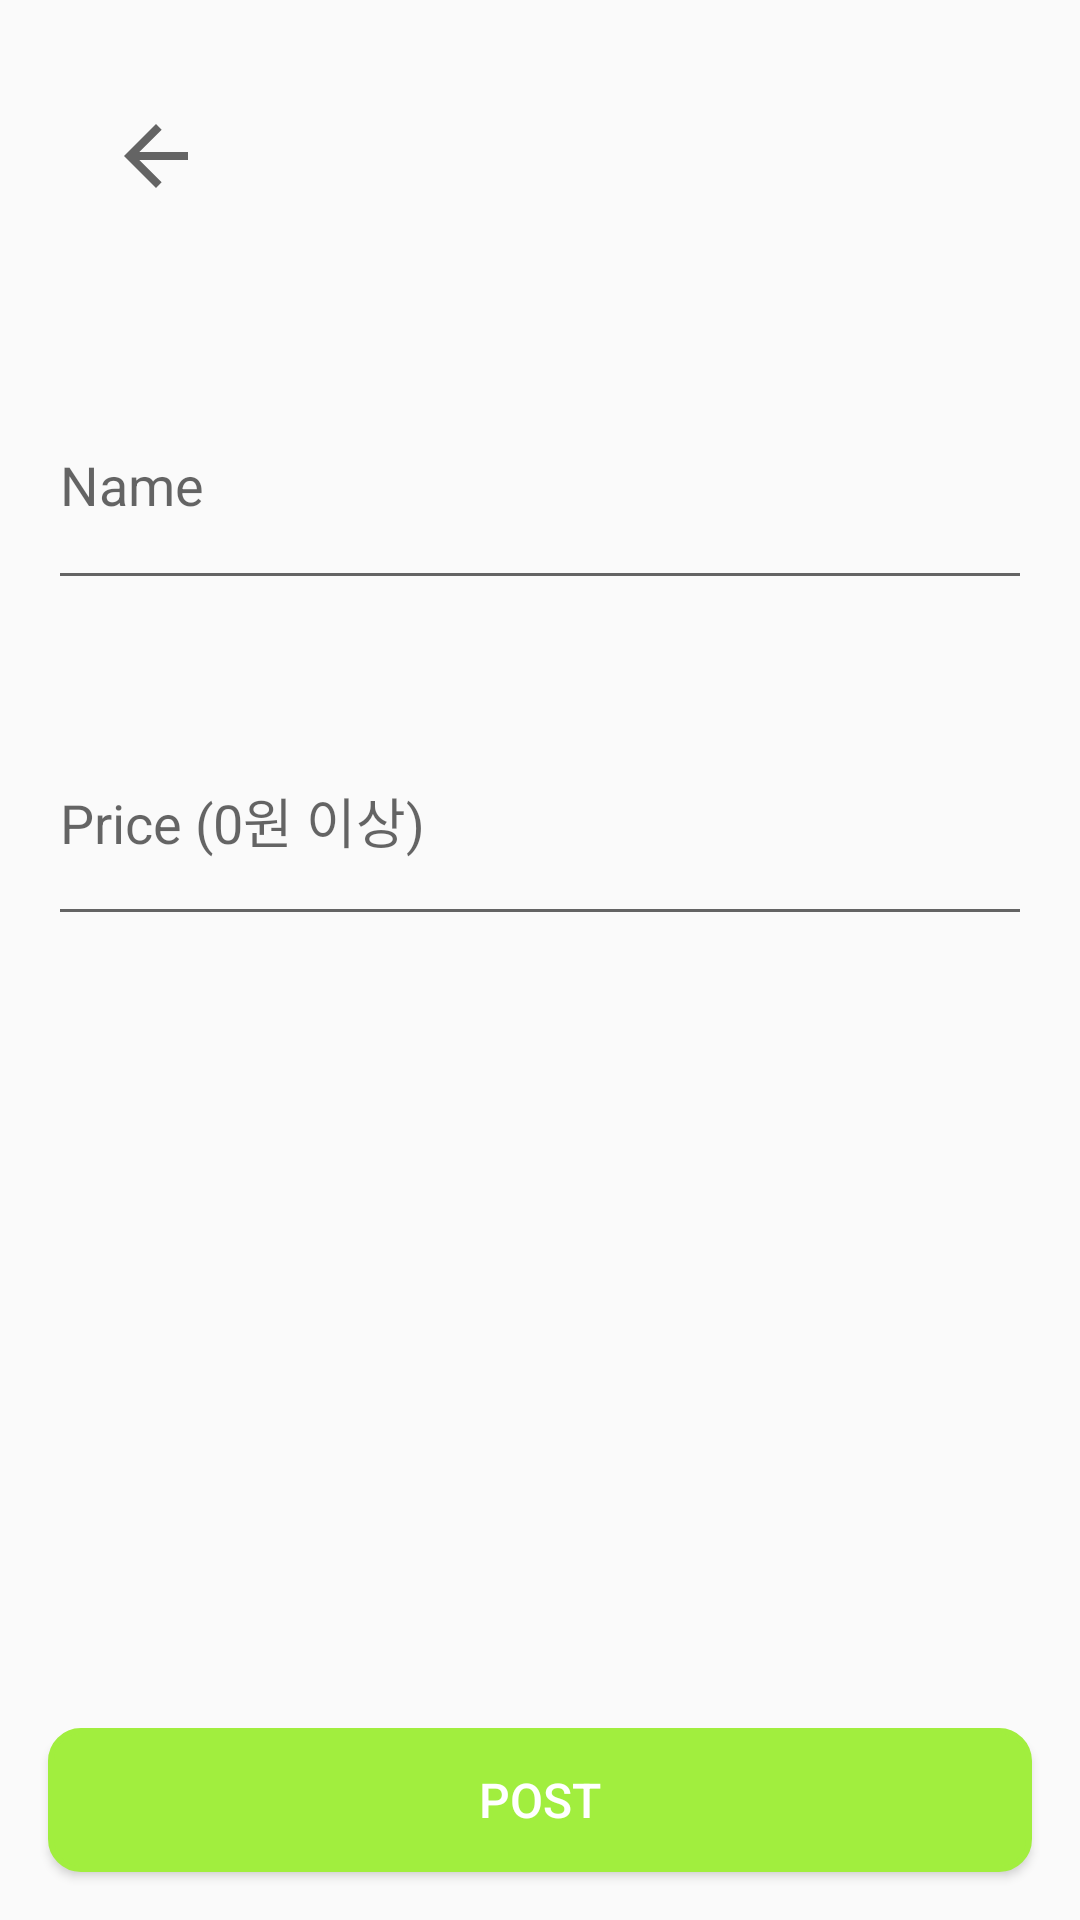

Icons on this 1080px x 1920px Android screen, each with its box as (x1, y1, x2, y2):
backarrow: (124, 124, 188, 188)
